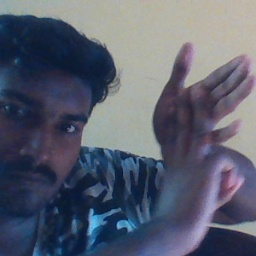M: (148, 42, 256, 218)
